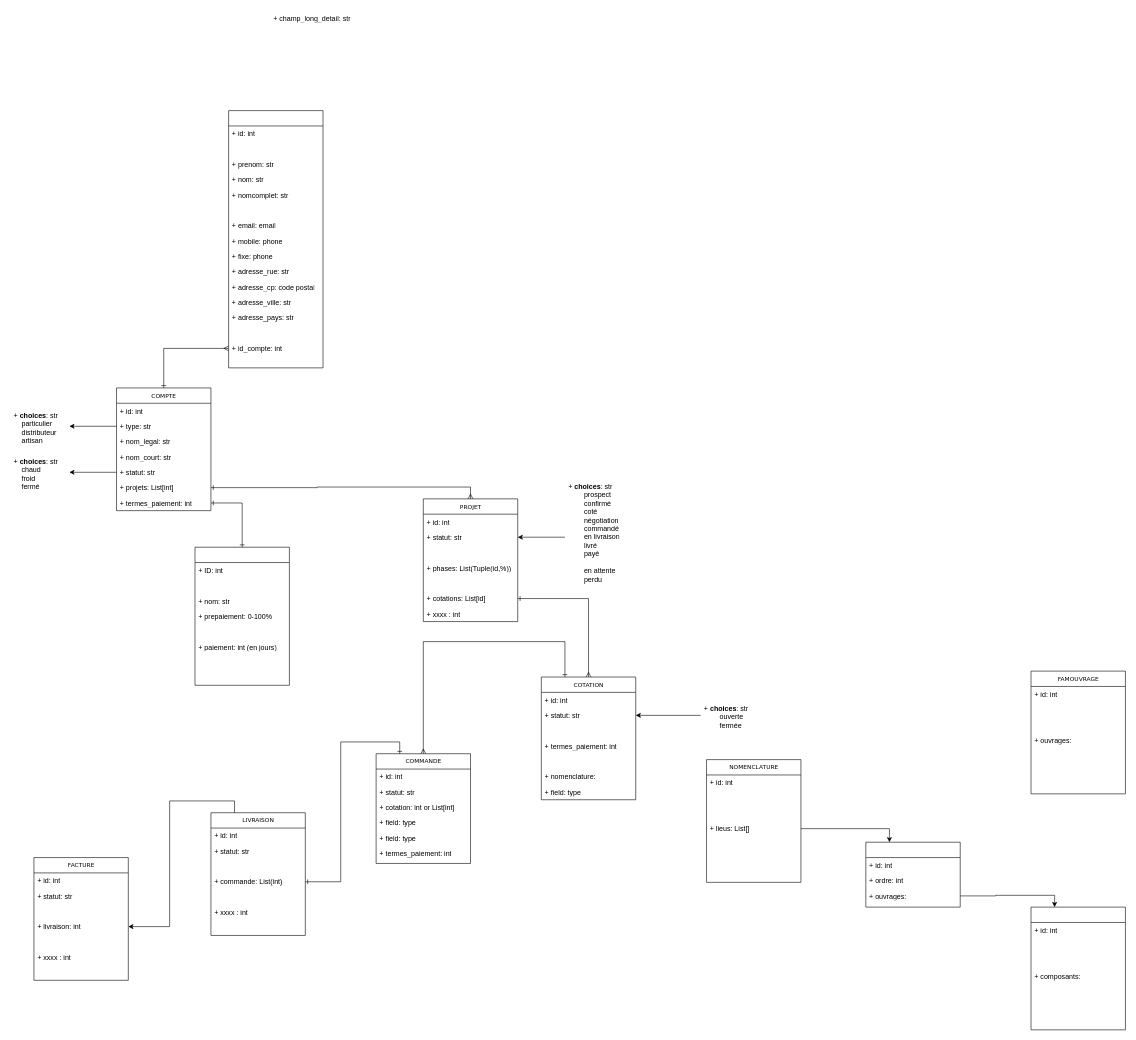
Image size: 1136x1040. Some labels were removed from this diagram. The box of each missing label's shape, as (x1, y1, x2, y2) in pixels:
CONTACT: (228, 110, 323, 368)
LIEU: (865, 842, 960, 907)
OUVRAGE: (1030, 907, 1125, 1030)
TERMES_PAIEMENT: (194, 547, 289, 685)
